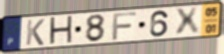6: (149, 10, 170, 38)
8: (85, 14, 107, 43)
F: (111, 11, 138, 42)
H: (48, 15, 74, 47)
K: (24, 18, 46, 47)
X: (174, 6, 202, 37)
